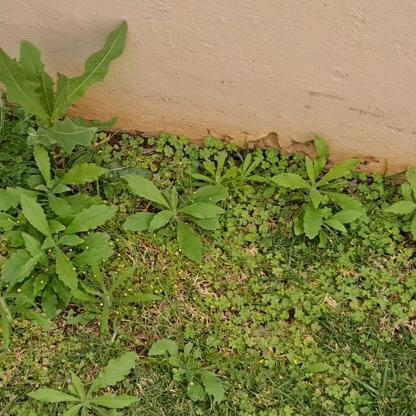Weeds: (0, 21, 129, 150), (3, 190, 120, 323), (271, 137, 365, 248), (121, 172, 226, 262), (1, 145, 109, 217), (26, 352, 138, 415), (74, 264, 160, 338), (148, 334, 223, 408), (3, 103, 36, 186), (191, 150, 236, 198), (387, 167, 415, 241), (232, 150, 259, 190)
